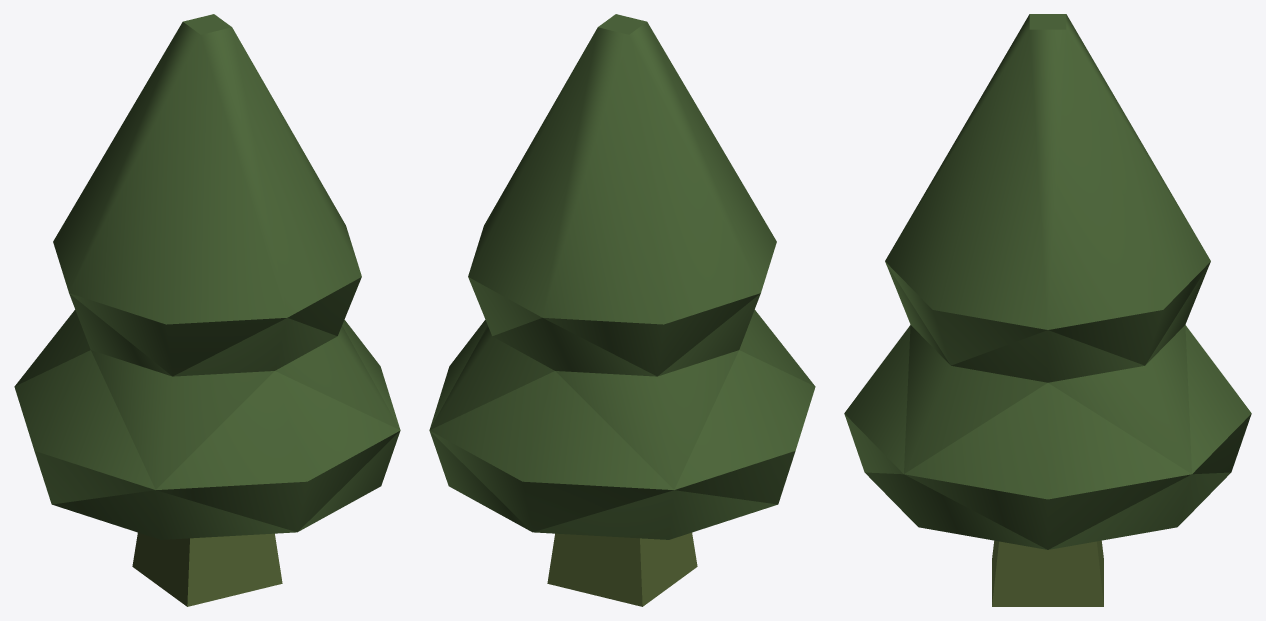
Rendered from deco_tree.glb.
3 renders of one model, left to right at view 1: azimuth 30°, elevation 25°; view 2: azimuth 150°, elevation 25°; view 3: azimuth 270°, elevation 25°, orthographic.
Visible parts, largest first — view 1: deco; view 2: deco; view 3: deco.
Part boxes in pixels (x1=…): deco: x1=14, y1=14, x2=400, y2=606; deco: x1=429, y1=14, x2=815, y2=606; deco: x1=844, y1=14, x2=1251, y2=606.
Size of the model in its own units: 0.4605 by 0.7 by 0.4605.
